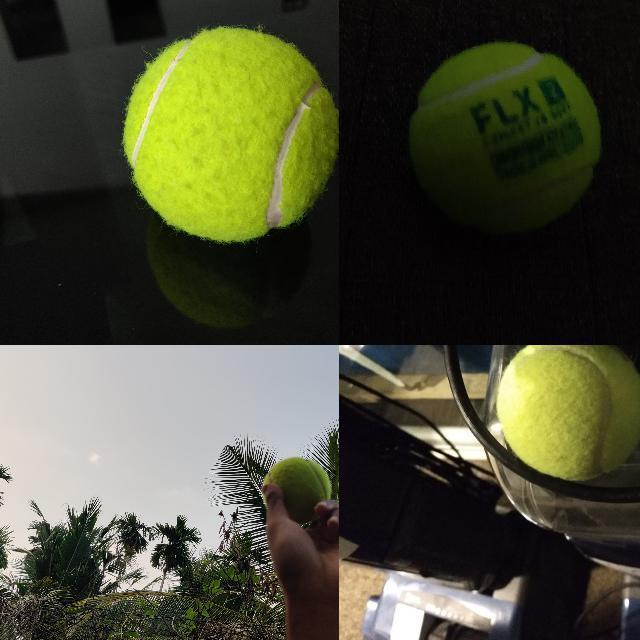tennis-ball: (119, 23, 338, 243), (408, 42, 601, 235), (495, 345, 639, 483), (261, 457, 331, 522)
